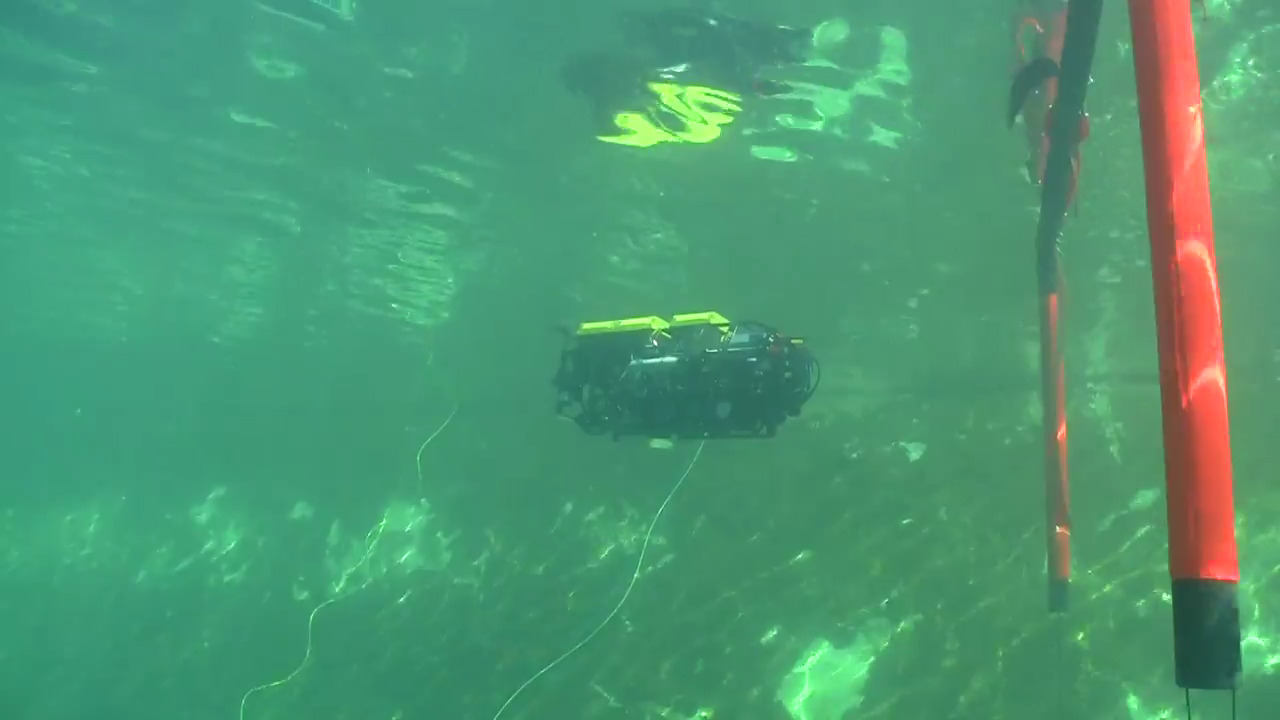gate: (1018, 1, 1260, 708)
